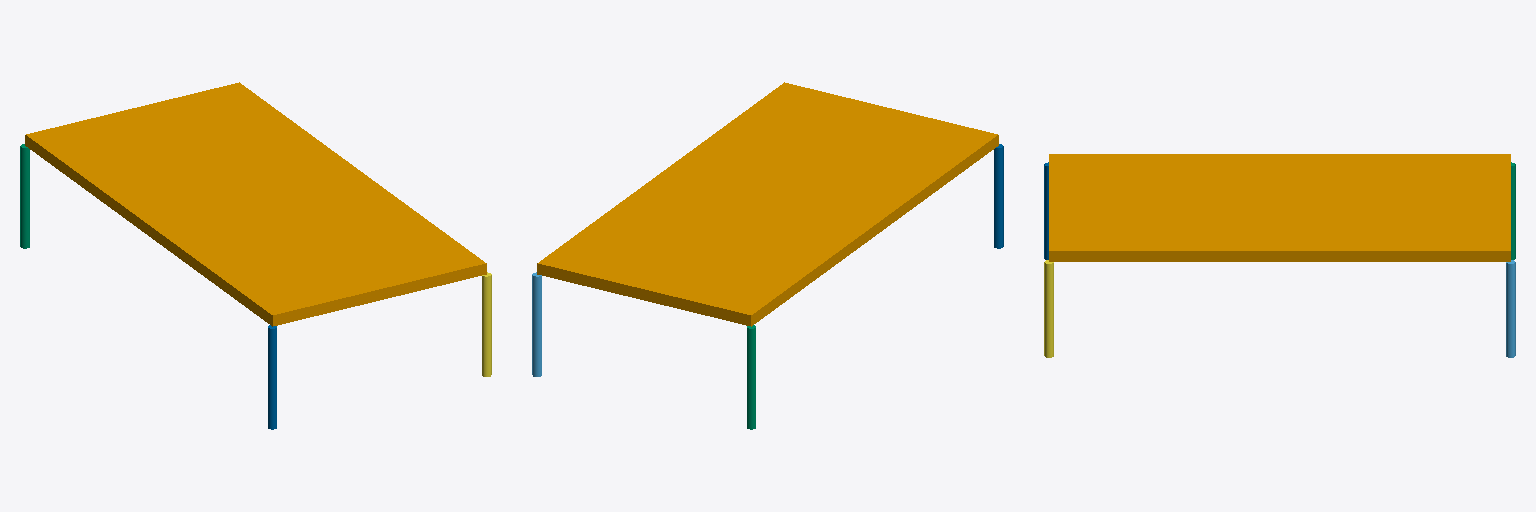
URDF robot description (table):
<?xml version="1.0" ?>
<!-- =================================================================================== -->
<!-- |    This document was autogenerated by xacro from /opt/ros/fuerte/stacks/simulator_gazebo/gazebo_worlds/objects/table.urdf.xacro | -->
<!-- |    EDITING THIS FILE BY HAND IS NOT RECOMMENDED                                 | -->
<!-- =================================================================================== -->
<robot name="table" xmlns:body="http://playerstage.sourceforge.net/gazebo/xmlschema/#body" xmlns:controller="http://playerstage.sourceforge.net/gazebo/xmlschema/#controller" xmlns:gazebo="http://playerstage.sourceforge.net/gazebo/xmlschema/#gz" xmlns:geom="http://playerstage.sourceforge.net/gazebo/xmlschema/#geom" xmlns:interface="http://playerstage.sourceforge.net/gazebo/xmlschema/#interface" xmlns:joint="http://playerstage.sourceforge.net/gazebo/xmlschema/#joint" xmlns:model="http://playerstage.sourceforge.net/gazebo/xmlschema/#model" xmlns:physics="http://playerstage.sourceforge.net/gazebo/xmlschema/#physics" xmlns:renderable="http://playerstage.sourceforge.net/gazebo/xmlschema/#renderable" xmlns:rendering="http://playerstage.sourceforge.net/gazebo/xmlschema/#rendering" xmlns:sensor="http://playerstage.sourceforge.net/gazebo/xmlschema/#sensor" xmlns:xi="http://www.w3.org/2001/XInclude">
  <!-- tabletop height is .55+.01+.025=.585 -->
  <link name="table_top_link">
    <inertial>
      <mass value="1.0"/>
      <origin xyz="0.0 0.0 0.525"/>
      <inertia ixx="1" ixy="0" ixz="0" iyy="1" iyz="0" izz="1"/>
    </inertial>
    <visual>
      <origin xyz="0.0 0.0 0.525"/>
      <geometry>
        <box size="1.0 2.0 0.05"/>
      </geometry>
    </visual>
    <collision>
      <origin xyz="0.0 0.0 0.525"/>
      <geometry>
        <box size="1.0 2.0 0.05"/>
      </geometry>
    </collision>
  </link>
  <gazebo reference="table_top_link">
    <material>Gazebo/Wood</material>
    <mu1>50.0</mu1>
    <mu2>50.0</mu2>
    <kp>1000000.0</kp>
    <kd>1.0</kd>
  </gazebo>
  <joint name="leg1_joint" type="fixed">
    <parent link="table_top_link"/>
    <origin rpy="0 0 0" xyz="0.5 1.0 0.55"/>
    <child link="leg1_link"/>
  </joint>
  <link name="leg1_link">
    <inertial>
      <mass value="1.0"/>
      <origin xyz="0 0 -0.275"/>
      <inertia ixx="0.1" ixy="0" ixz="0" iyy="0.1" iyz="0" izz="0.01"/>
    </inertial>
    <visual>
      <origin rpy="0 0 0" xyz="0.0 0.0 -0.275"/>
      <geometry>
        <cylinder length="0.45" radius="0.02"/>
      </geometry>
    </visual>
    <collision>
      <origin rpy="0.0 0.0 0.0" xyz="0.0 0.0 -0.275"/>
      <geometry>
        <cylinder length="0.45" radius="0.02"/>
      </geometry>
    </collision>
  </link>
  <gazebo reference="leg1_link">
    <material>Gazebo/Red</material>
    <mu1>1000.0</mu1>
    <mu2>1000.0</mu2>
    <kp>10000000.0</kp>
    <kd>1.0</kd>
    <selfCollide>true</selfCollide>
  </gazebo>
  <joint name="leg2_joint" type="fixed">
    <parent link="table_top_link"/>
    <origin rpy="0 0 0" xyz="-0.5 1.0 0.55"/>
    <child link="leg2_link"/>
  </joint>
  <link name="leg2_link">
    <inertial>
      <mass value="1.0"/>
      <origin xyz="0 0 -0.275"/>
      <inertia ixx="0.1" ixy="0" ixz="0" iyy="0.1" iyz="0" izz="0.01"/>
    </inertial>
    <visual>
      <origin rpy="0 0 0" xyz="0.0 0.0 -0.275"/>
      <geometry>
        <cylinder length="0.45" radius="0.02"/>
      </geometry>
    </visual>
    <collision>
      <origin rpy="0.0 0.0 0.0" xyz="0.0 0.0 -0.275"/>
      <geometry>
        <cylinder length="0.45" radius="0.02"/>
      </geometry>
    </collision>
  </link>
  <gazebo reference="leg2_link">
    <material>Gazebo/Red</material>
    <mu1>1000.0</mu1>
    <mu2>1000.0</mu2>
    <kp>10000000.0</kp>
    <kd>1.0</kd>
    <selfCollide>true</selfCollide>
  </gazebo>
  <joint name="leg3_joint" type="fixed">
    <parent link="table_top_link"/>
    <origin rpy="0 0 0" xyz="0.5 -1.0 0.55"/>
    <child link="leg3_link"/>
  </joint>
  <link name="leg3_link">
    <inertial>
      <mass value="1.0"/>
      <origin xyz="0 0 -0.275"/>
      <inertia ixx="0.1" ixy="0" ixz="0" iyy="0.1" iyz="0" izz="0.01"/>
    </inertial>
    <visual>
      <origin rpy="0 0 0" xyz="0.0 0.0 -0.275"/>
      <geometry>
        <cylinder length="0.45" radius="0.02"/>
      </geometry>
    </visual>
    <collision>
      <origin rpy="0.0 0.0 0.0" xyz="0.0 0.0 -0.275"/>
      <geometry>
        <cylinder length="0.45" radius="0.02"/>
      </geometry>
    </collision>
  </link>
  <gazebo reference="leg3_link">
    <material>Gazebo/Red</material>
    <mu1>1000.0</mu1>
    <mu2>1000.0</mu2>
    <kp>10000000.0</kp>
    <kd>1.0</kd>
    <selfCollide>true</selfCollide>
  </gazebo>
  <joint name="leg4_joint" type="fixed">
    <parent link="table_top_link"/>
    <origin rpy="0 0 0" xyz="-0.5 -1.0 0.55"/>
    <child link="leg4_link"/>
  </joint>
  <link name="leg4_link">
    <inertial>
      <mass value="1.0"/>
      <origin xyz="0 0 -0.275"/>
      <inertia ixx="0.1" ixy="0" ixz="0" iyy="0.1" iyz="0" izz="0.01"/>
    </inertial>
    <visual>
      <origin rpy="0 0 0" xyz="0.0 0.0 -0.275"/>
      <geometry>
        <cylinder length="0.45" radius="0.02"/>
      </geometry>
    </visual>
    <collision>
      <origin rpy="0.0 0.0 0.0" xyz="0.0 0.0 -0.275"/>
      <geometry>
        <cylinder length="0.45" radius="0.02"/>
      </geometry>
    </collision>
  </link>
  <gazebo reference="leg4_link">
    <material>Gazebo/Red</material>
    <mu1>1000.0</mu1>
    <mu2>1000.0</mu2>
    <kp>10000000.0</kp>
    <kd>1.0</kd>
    <selfCollide>true</selfCollide>
  </gazebo>
  <gazebo>
    <static>false</static>
    <canonicalBody>table_top_link</canonicalBody>
  </gazebo>
</robot>

--- Render facts (derived) ---
The picture shows the robot from 3 angles, left to right: view 1: azimuth 30°, elevation 25°; view 2: azimuth 150°, elevation 25°; view 3: azimuth 270°, elevation 25°; orthographic projection.
Robot: table — 5 links, 4 joints (4 fixed); root link table_top_link; default pose: all joints at 0.
Visible links, largest first — view 1: table_top_link, leg3_link, leg2_link, leg4_link; view 2: table_top_link, leg1_link, leg4_link, leg2_link; view 3: table_top_link, leg1_link, leg3_link.
Link boxes in pixels (x1,y1,x2,y2): table_top_link: (25, 82, 486, 326); leg3_link: (482, 272, 491, 376); leg2_link: (20, 144, 29, 248); leg4_link: (268, 325, 276, 429); table_top_link: (537, 82, 998, 326); leg1_link: (532, 272, 541, 376); leg4_link: (994, 144, 1003, 248); leg2_link: (747, 325, 755, 429); table_top_link: (1049, 154, 1510, 261); leg1_link: (1506, 260, 1515, 357); leg3_link: (1044, 260, 1053, 357).
Bounding box of the posed robot: 1.04 × 2.04 × 0.5 m (x, y, z).
Geometry: primitives only (box / cylinder / sphere), no mesh files.